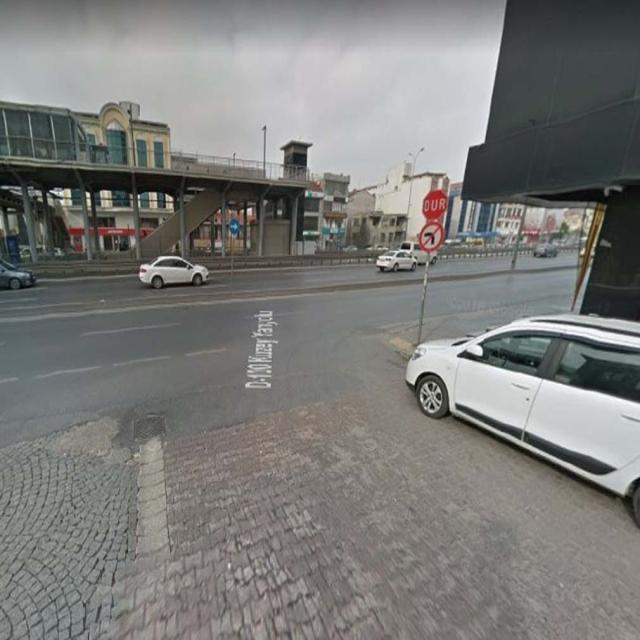dur: (422, 190, 447, 222)
sag: (229, 220, 239, 233)
soladonulmez: (419, 220, 443, 252)
